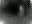person: (19, 5, 25, 19)
